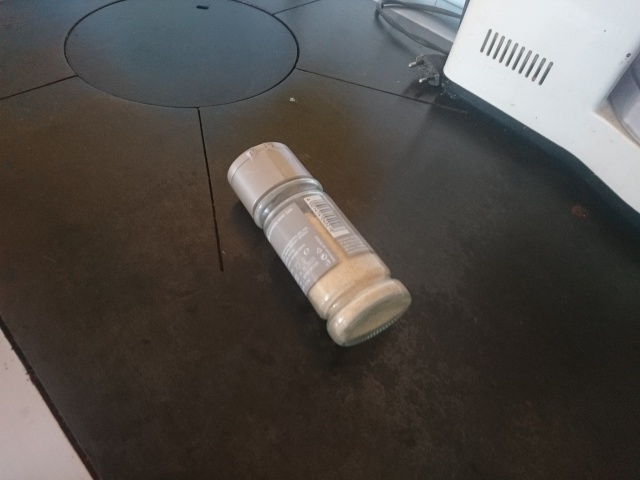Kotanyi Garlic Granules 70g: (223, 139, 415, 350)
